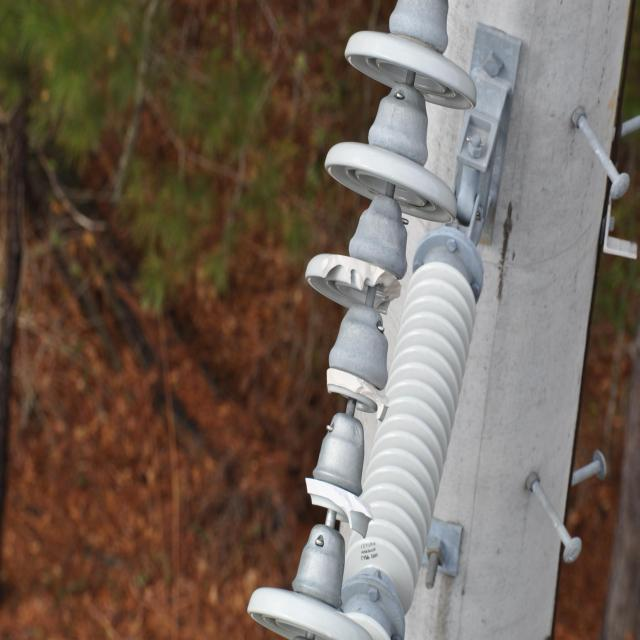broken: (322, 248, 400, 311), (304, 472, 374, 538), (323, 361, 388, 424)
insulator: (248, 26, 478, 640), (343, 262, 477, 614)
